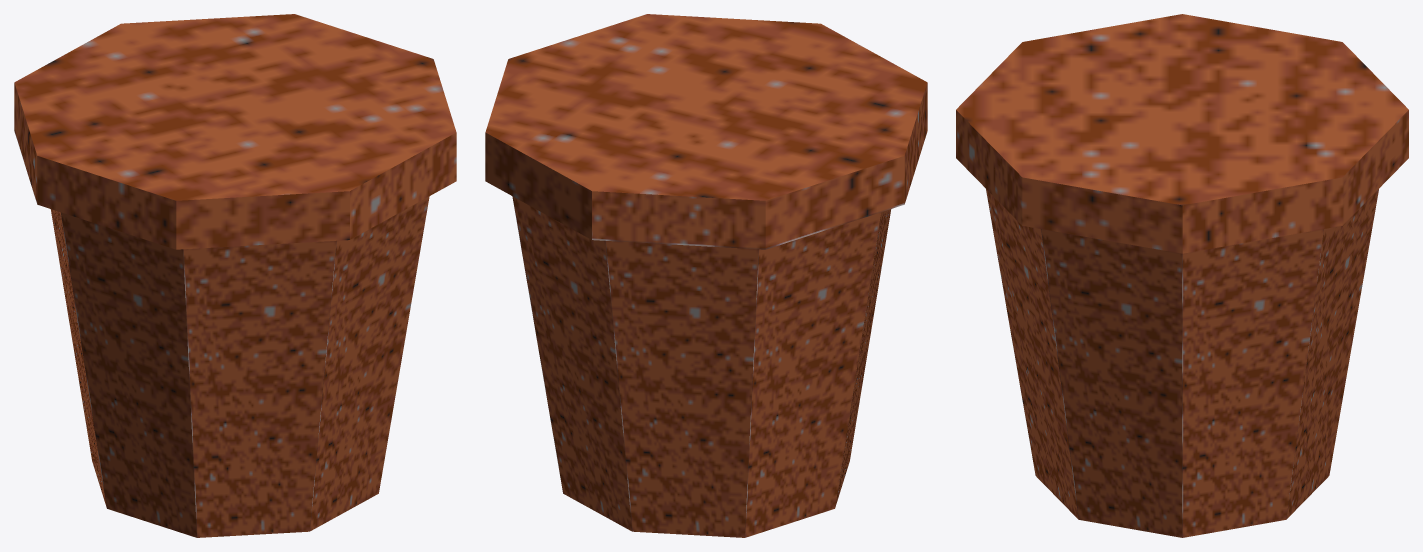
The model's file is SM_Dungeon_Pot.fbx.
The picture shows the model from 3 angles, left to right: view 1: azimuth 30°, elevation 25°; view 2: azimuth 150°, elevation 25°; view 3: azimuth 270°, elevation 25°; orthographic projection.
Visible parts, largest first — view 1: SM_Dungeon_Pot; view 2: SM_Dungeon_Pot; view 3: SM_Dungeon_Pot.
Boxes of the visible parts, x1,y1,x2,y2 form: SM_Dungeon_Pot: (14, 14, 456, 537); SM_Dungeon_Pot: (485, 14, 927, 537); SM_Dungeon_Pot: (956, 14, 1408, 537).
Size of the model in its own units: 28.06 by 25.03 by 28.06.
